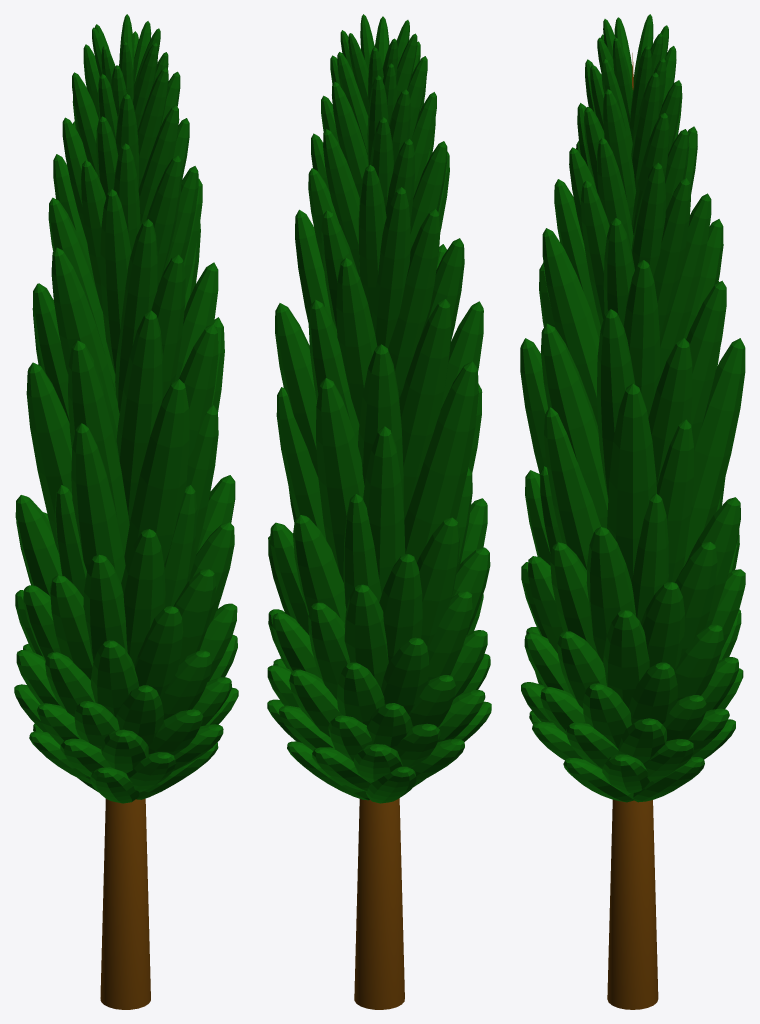
File: Tree3.fbx
3 views of the same model, side by side, from view 1: azimuth 30°, elevation 25°; view 2: azimuth 150°, elevation 25°; view 3: azimuth 270°, elevation 25° (orthographic).
Parts seen in each view (by area): view 1: pSphere35; view 2: pSphere35; view 3: pSphere35.
Boxes of the visible parts, x1,y1,x2,y2 form: pSphere35: [14, 14, 238, 1009]; pSphere35: [267, 14, 491, 1009]; pSphere35: [520, 14, 745, 1009].
Bounding box in the file's own units: 8.02 × 38.32 × 8.03.
